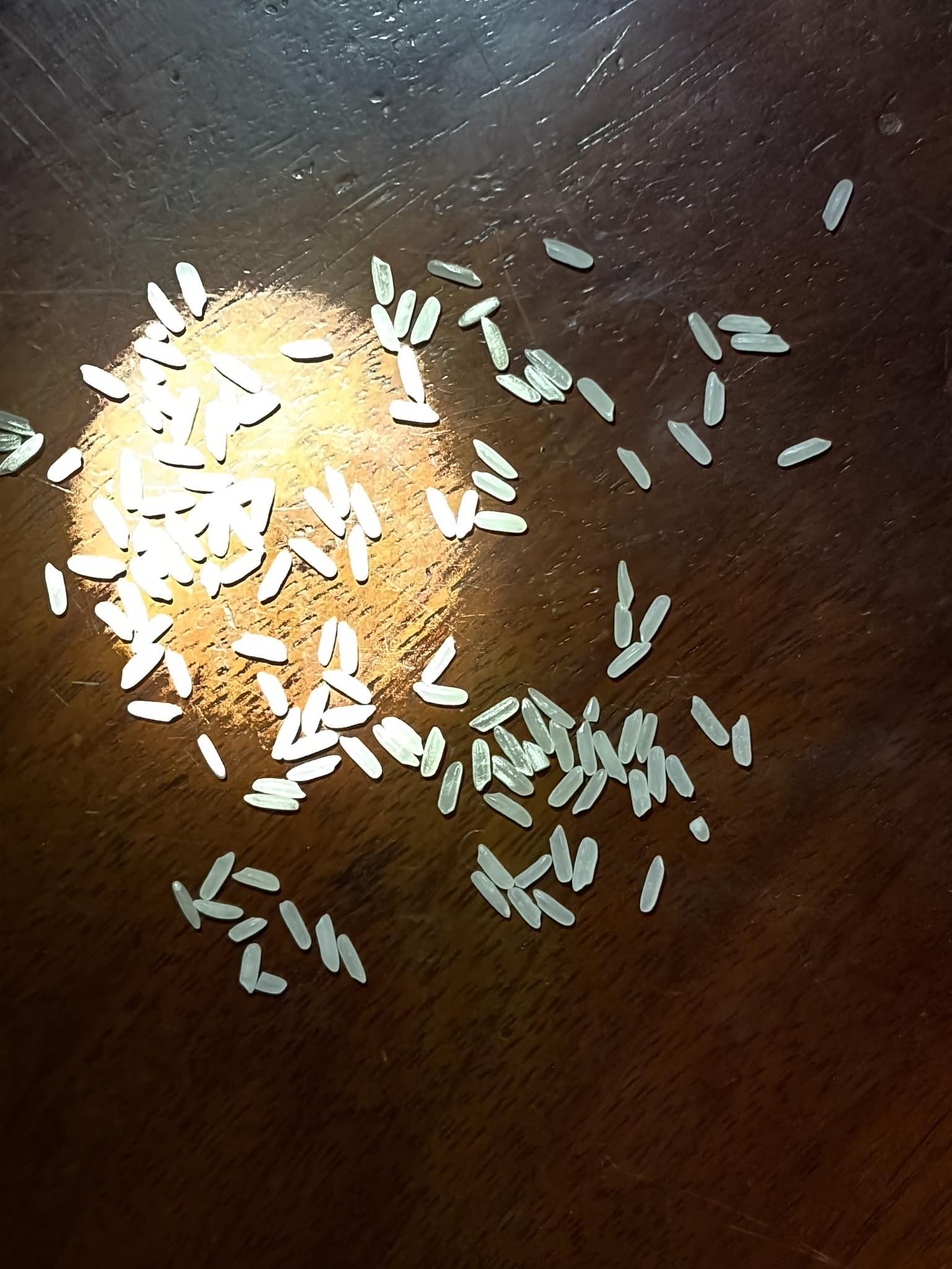Rice-th-y-nh: (210, 351, 264, 394), (666, 419, 713, 467), (392, 345, 430, 404), (304, 486, 347, 538), (688, 695, 730, 748), (119, 642, 165, 690), (370, 723, 419, 768), (153, 532, 194, 585), (525, 687, 575, 730), (421, 486, 461, 539), (288, 535, 337, 578), (92, 496, 130, 549), (639, 744, 673, 803), (519, 697, 554, 754), (339, 735, 384, 779), (528, 347, 573, 391), (612, 709, 648, 764), (469, 870, 511, 917), (319, 464, 356, 517), (591, 730, 627, 784), (696, 372, 732, 426), (146, 282, 184, 333), (127, 556, 171, 600), (473, 438, 519, 480), (164, 513, 205, 560), (475, 843, 515, 891), (349, 482, 382, 540), (198, 851, 236, 901), (575, 376, 616, 422), (724, 715, 759, 768), (277, 899, 313, 950), (170, 386, 201, 445), (258, 549, 293, 601), (161, 647, 196, 699), (233, 631, 288, 664), (227, 502, 264, 551), (184, 490, 225, 534), (484, 791, 534, 827), (233, 942, 267, 994), (421, 637, 457, 686), (687, 312, 723, 361), (270, 705, 302, 760), (606, 639, 651, 678), (80, 363, 128, 399), (324, 669, 372, 705), (382, 716, 424, 757), (522, 363, 566, 402), (820, 178, 853, 230), (138, 488, 193, 519), (450, 489, 484, 539), (469, 697, 519, 731), (492, 726, 528, 773), (298, 685, 331, 736), (116, 579, 149, 630), (777, 436, 831, 467), (118, 448, 145, 510), (615, 446, 653, 490), (571, 770, 608, 815), (175, 262, 207, 314), (248, 476, 277, 533), (313, 914, 341, 973), (730, 330, 791, 357), (95, 601, 135, 642), (2, 433, 45, 471), (532, 888, 575, 926), (548, 764, 585, 808), (67, 552, 125, 580), (638, 856, 666, 914), (219, 549, 264, 585), (235, 389, 280, 425), (135, 337, 187, 368), (413, 680, 470, 708), (426, 259, 481, 288), (480, 318, 510, 371), (638, 595, 671, 643), (336, 933, 367, 984), (369, 304, 401, 353), (409, 296, 441, 345), (287, 754, 341, 783), (570, 836, 599, 890), (543, 238, 593, 269), (507, 887, 543, 929), (345, 524, 372, 580), (571, 725, 601, 775), (389, 397, 439, 427), (171, 881, 202, 929), (436, 762, 464, 815), (548, 826, 574, 883), (471, 470, 517, 502), (289, 729, 338, 759), (226, 475, 275, 505), (334, 621, 361, 675), (177, 468, 233, 494), (496, 372, 541, 404), (610, 561, 640, 609), (152, 441, 205, 468), (203, 400, 227, 459), (607, 602, 637, 649), (256, 670, 288, 714), (718, 311, 772, 337), (207, 499, 232, 555), (492, 763, 534, 796), (196, 733, 226, 779), (625, 768, 653, 817), (664, 754, 695, 798), (127, 699, 183, 723), (46, 446, 83, 482), (514, 854, 553, 888), (474, 509, 527, 534), (43, 563, 68, 615), (634, 712, 660, 762), (420, 727, 446, 777), (136, 613, 173, 648), (325, 704, 376, 729), (194, 897, 245, 922), (468, 738, 492, 790), (550, 724, 575, 773), (143, 381, 178, 416), (280, 336, 331, 360), (217, 382, 241, 433), (371, 255, 395, 306), (253, 777, 306, 800), (315, 617, 339, 667), (233, 867, 281, 892), (391, 290, 416, 338), (461, 297, 500, 326), (243, 792, 300, 811), (228, 917, 268, 943), (254, 968, 288, 998), (0, 410, 36, 436), (522, 740, 550, 771), (136, 401, 163, 430), (199, 561, 220, 596), (139, 358, 167, 384), (688, 816, 711, 842), (583, 696, 602, 723), (145, 322, 169, 342), (0, 434, 23, 452)
